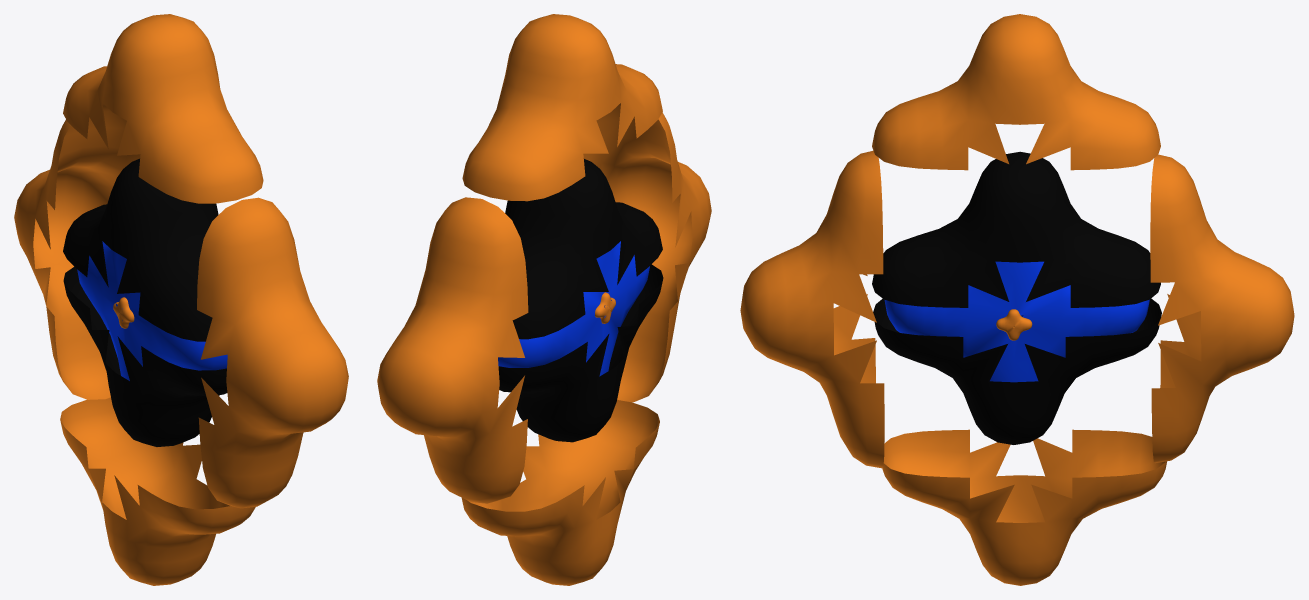
File: RareCookie_David Wijaya_140810210024.fbx
3 views of the same model, side by side, from view 1: azimuth 30°, elevation 25°; view 2: azimuth 150°, elevation 25°; view 3: azimuth 270°, elevation 25° (orthographic).
Parts seen in each view (by area): view 1: Luaran 2 Cookie (Kanan), Luaran 2 Cookie (Atas), Luaran 2 Cookie (Bawah), Luaran 1 Cookie (Atas), Luaran 2 Cookie (Kiri), Luaran 1 Cookie (Bawah), Isi Kuenya; view 2: Luaran 2 Cookie (Kiri), Luaran 2 Cookie (Atas), Luaran 2 Cookie (Bawah), Luaran 1 Cookie (Atas), Luaran 2 Cookie (Kanan), Luaran 1 Cookie (Bawah), Isi Kuenya; view 3: Luaran 2 Cookie (Atas), Luaran 1 Cookie (Atas), Luaran 2 Cookie (Bawah), Luaran 2 Cookie (Kanan), Luaran 2 Cookie (Kiri), Luaran 1 Cookie (Bawah), Isi Kuenya.
Boxes of the visible parts, x1,y1,x2,y2 form: Luaran 2 Cookie (Kanan): (197,197,348,508); Luaran 2 Cookie (Atas): (63,14,263,203); Luaran 2 Cookie (Bawah): (60,397,255,585); Luaran 1 Cookie (Atas): (63,158,218,341); Luaran 2 Cookie (Kiri): (14,103,140,399); Luaran 1 Cookie (Bawah): (63,266,227,446); Isi Kuenya: (77,241,227,380); Luaran 2 Cookie (Kiri): (377,197,528,503); Luaran 2 Cookie (Atas): (462,14,662,201); Luaran 2 Cookie (Bawah): (461,400,659,585); Luaran 1 Cookie (Atas): (505,159,662,339); Luaran 2 Cookie (Kanan): (583,103,711,402); Luaran 1 Cookie (Bawah): (498,264,663,442); Isi Kuenya: (498,241,649,376); Luaran 2 Cookie (Atas): (872,14,1160,170); Luaran 1 Cookie (Atas): (872,151,1160,307); Luaran 2 Cookie (Bawah): (882,429,1166,585); Luaran 2 Cookie (Kanan): (740,150,884,468); Luaran 2 Cookie (Kiri): (1150,154,1294,463); Luaran 1 Cookie (Bawah): (873,298,1161,444); Isi Kuenya: (884,261,1149,382).
Size of the model in its own units: 284 by 1315 by 1179.
